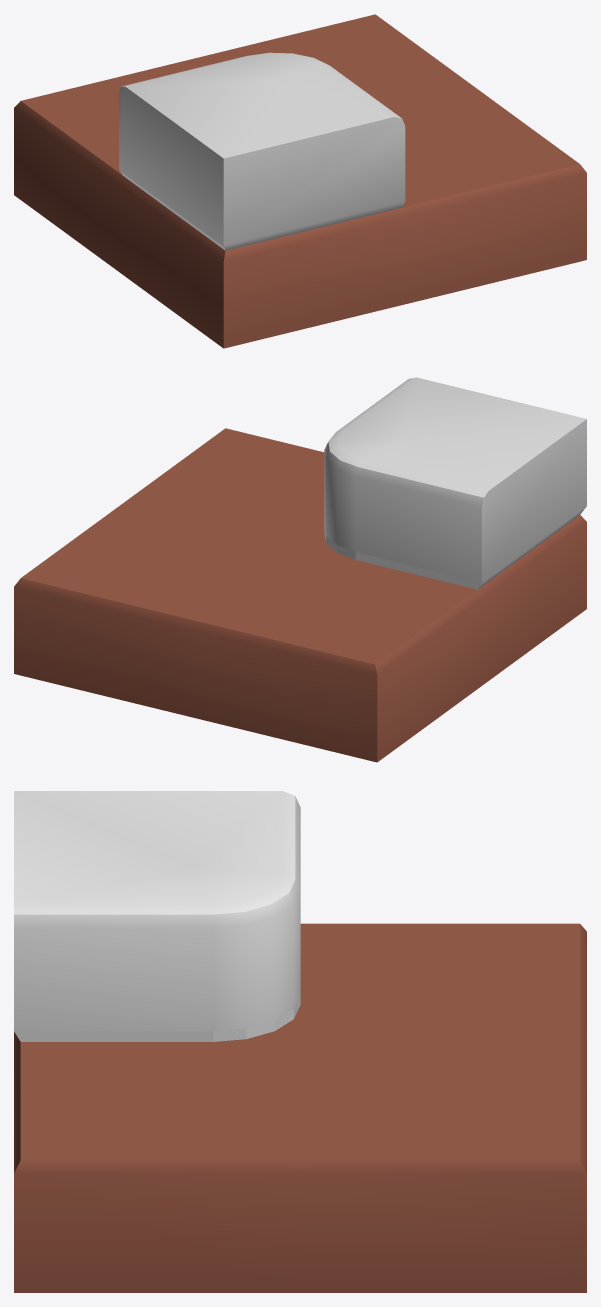
Rendered from square_snow_waterOuterCorner_empty.fbx.
The picture shows the model from 3 angles, top to bottom: view 1: azimuth 30°, elevation 25°; view 2: azimuth 150°, elevation 25°; view 3: azimuth 270°, elevation 25°; orthographic projection. The views are drawn at different scales.
Parts seen in each view (by area): view 1: square_snow_waterOuterCorner_empty; view 2: square_snow_waterOuterCorner_empty; view 3: square_snow_waterOuterCorner_empty.
Boxes of the visible parts, left/top/right/bottom form: square_snow_waterOuterCorner_empty: left=14, top=14, right=586, bottom=348; square_snow_waterOuterCorner_empty: left=14, top=377, right=586, bottom=762; square_snow_waterOuterCorner_empty: left=14, top=791, right=586, bottom=1292.
Bounding box in the file's own units: 2 × 1 × 2.
